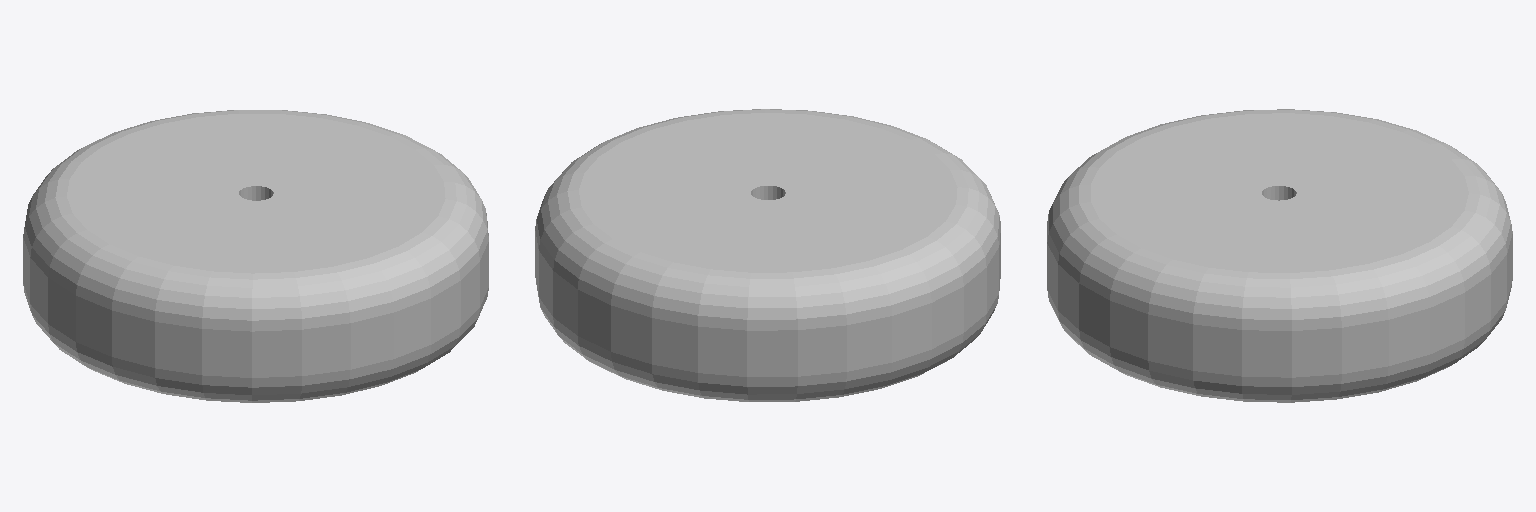
Rendered from _in_Caster.obj.
The picture shows the model from 3 angles: view 1: azimuth 30°, elevation 25°; view 2: azimuth 150°, elevation 25°; view 3: azimuth 270°, elevation 25°; orthographic projection.
Size of the model in its own units: 0.1601 by 0.0476 by 0.1599.